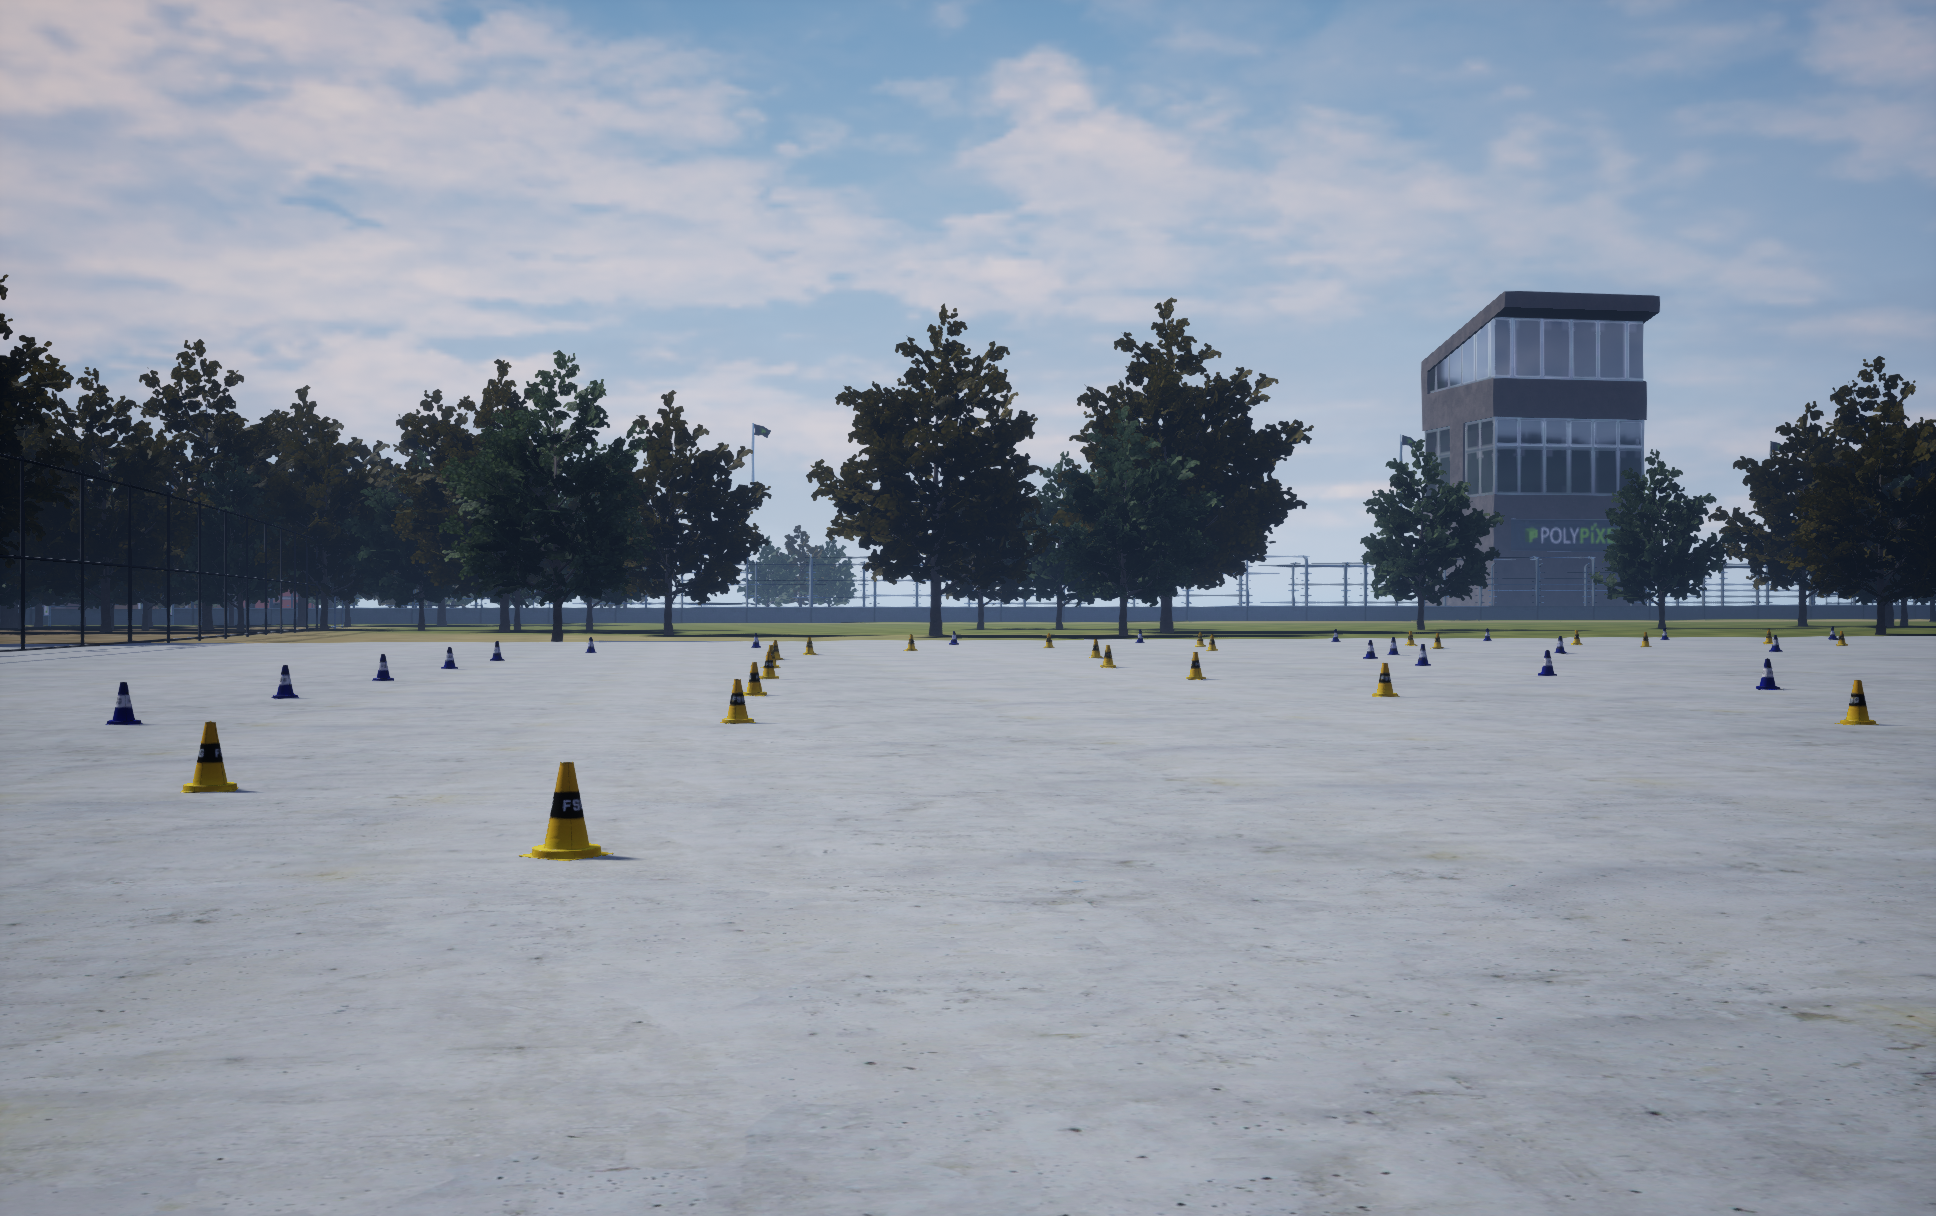blue: (518, 762, 614, 860), (179, 721, 238, 792), (1834, 679, 1879, 724), (720, 679, 755, 723), (1371, 663, 1399, 696), (742, 663, 766, 695), (1187, 651, 1205, 679), (759, 651, 777, 678), (761, 644, 780, 667), (1100, 644, 1115, 667), (1088, 639, 1102, 657)
yellow: (105, 682, 141, 724), (270, 665, 298, 698), (1757, 658, 1782, 689), (373, 654, 394, 679), (1538, 650, 1556, 675), (441, 647, 457, 668), (1415, 644, 1430, 665), (490, 642, 504, 660), (1363, 640, 1377, 658), (1387, 637, 1399, 654)
